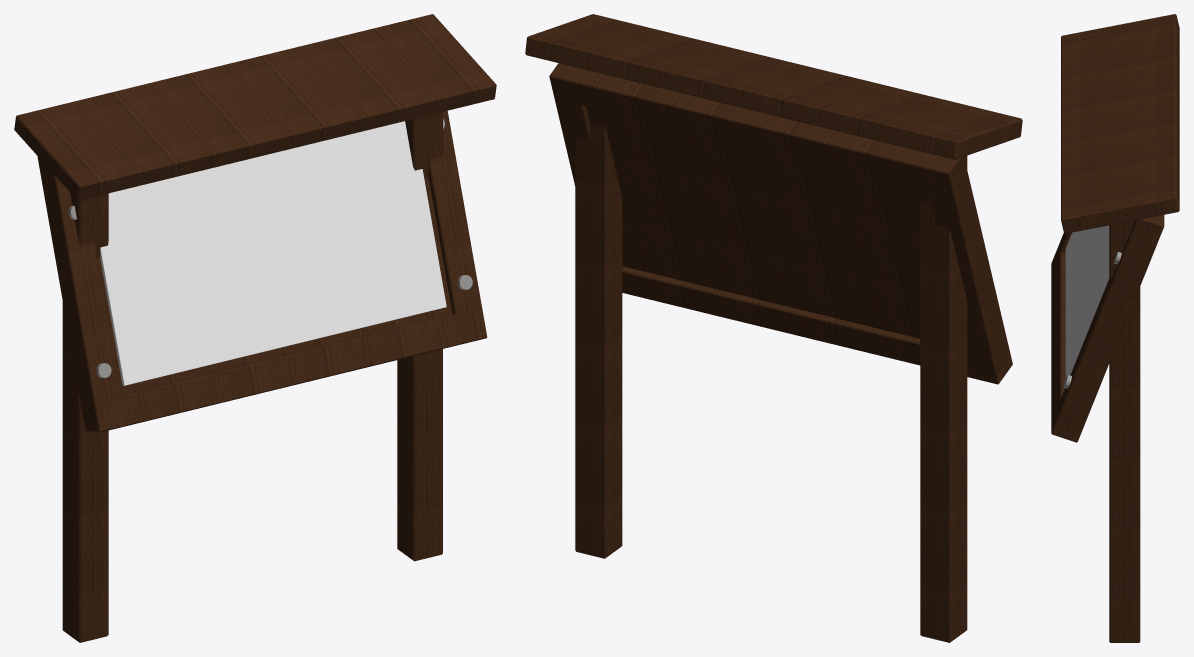
File: studio-guide-information-board.glb
3 renders of one model, left to right at view 1: azimuth 30°, elevation 25°; view 2: azimuth 150°, elevation 25°; view 3: azimuth 270°, elevation 25°, orthographic. The views are drawn at different scales.
Parts seen in each view (by area): view 1: map_sheet, rain_cap, post_L, frame_bottom, post_R, frame_left, frame_right, map_backing; view 2: map_backing, rain_cap, post_R, post_L, frame_top, frame_left, frame_bottom, frame_right; view 3: rain_cap, post_R, frame_right, map_sheet, frame_bottom.
Boxes of the visible parts, x1,y1,x2,y2 form: map_sheet: [100, 121, 446, 385]; rain_cap: [14, 14, 496, 200]; post_L: [62, 192, 108, 642]; frame_bottom: [95, 309, 487, 432]; post_R: [397, 112, 442, 561]; frame_left: [37, 156, 125, 432]; frame_right: [428, 110, 486, 343]; map_backing: [97, 178, 452, 394]; map_backing: [586, 106, 930, 338]; rain_cap: [525, 14, 1022, 159]; post_R: [575, 122, 622, 558]; post_L: [920, 155, 967, 642]; frame_top: [549, 69, 952, 195]; frame_left: [922, 154, 1012, 384]; frame_bottom: [622, 266, 971, 377]; frame_right: [549, 63, 624, 293]; rain_cap: [1061, 14, 1179, 233]; post_R: [1109, 220, 1140, 642]; frame_right: [1051, 215, 1164, 442]; map_sheet: [1065, 225, 1109, 377]; frame_bottom: [1051, 242, 1065, 432].
Bounding box in the file's own units: 1.4 × 1.63 × 0.4122.
Materials: 3 (3 with a texture image).
